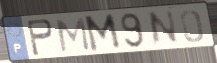0: (179, 9, 206, 44)
9: (119, 12, 147, 50)
M: (82, 12, 124, 54), (54, 16, 92, 53)
N: (146, 8, 181, 49)
P: (25, 18, 56, 58)
